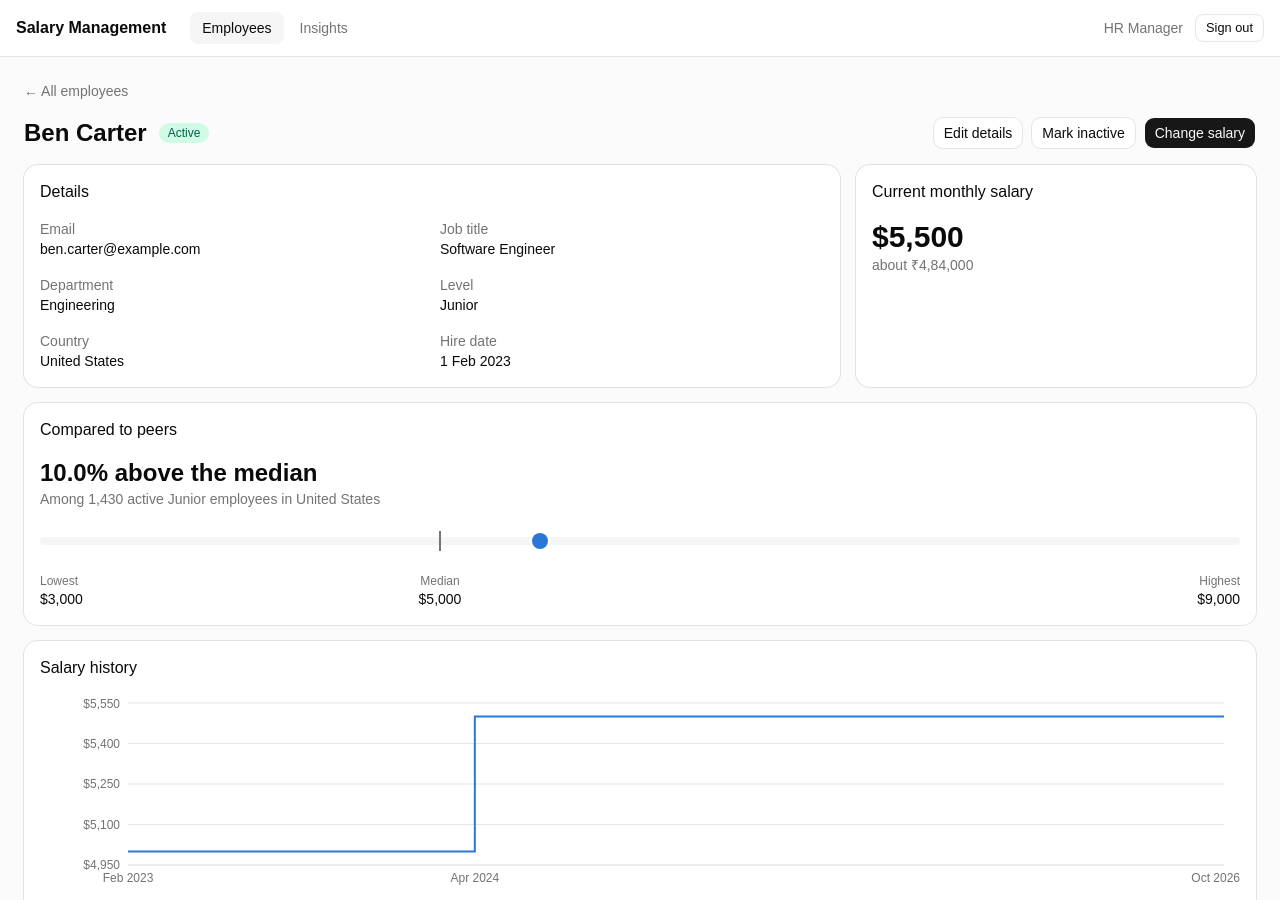
Test: changing a salary › rejects an amount of "abc" before saving
Click the button "Change salary": (1200, 133) [1144,117,1256,149]
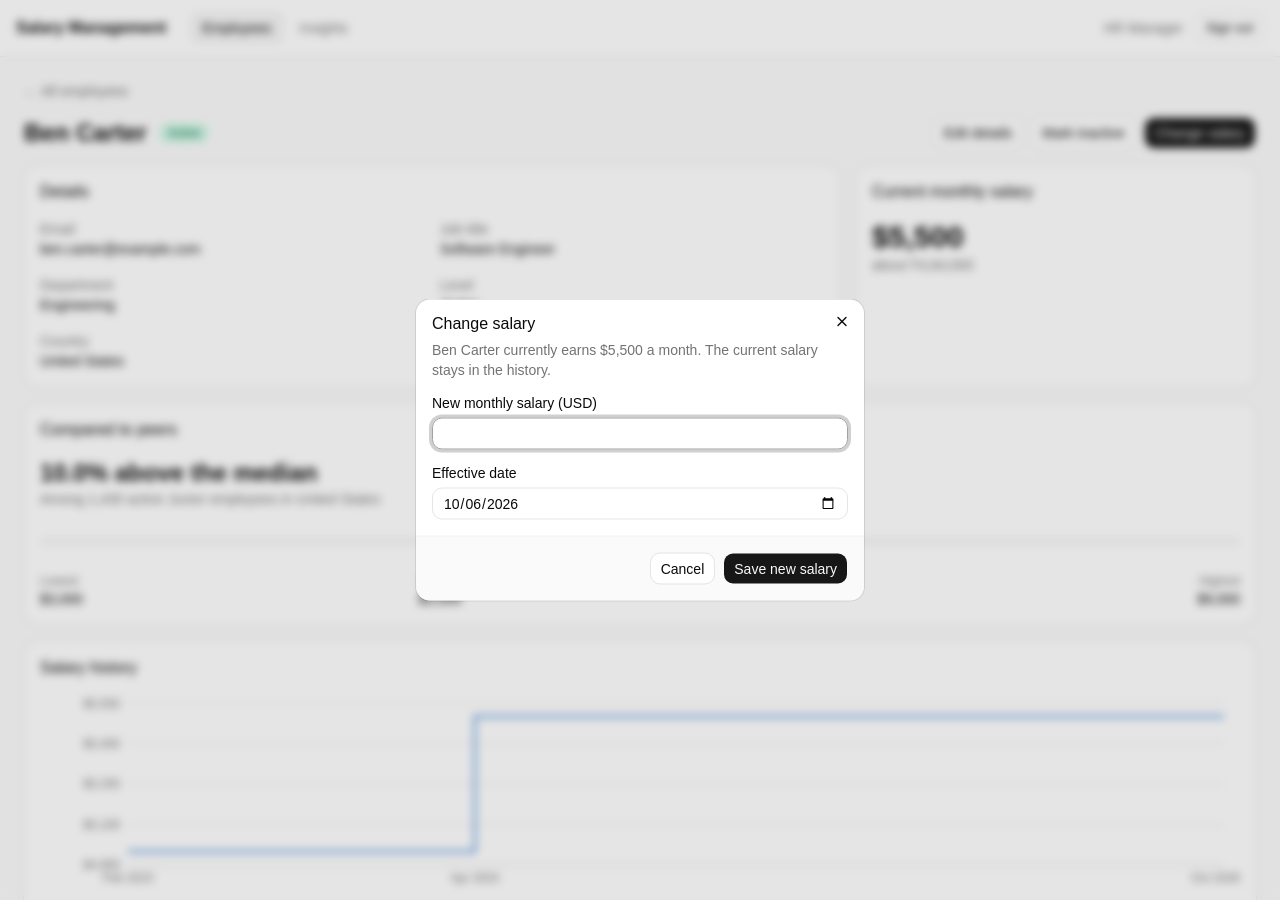
In the field labelled "New monthly salary (USD)": (640, 434) [432,418,848,450], type "abc"
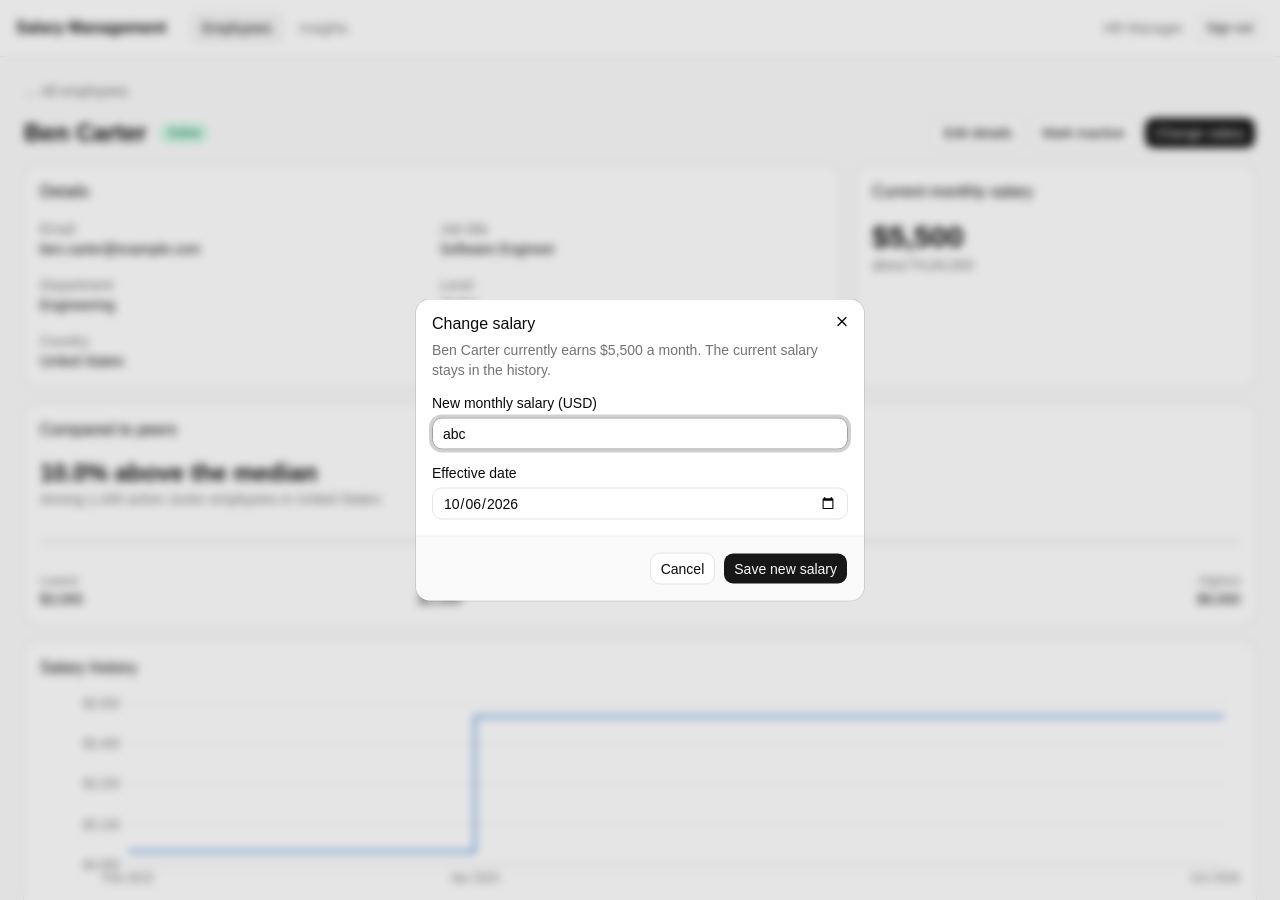
Click the button "Save new salary": (786, 568) [723,552,848,584]
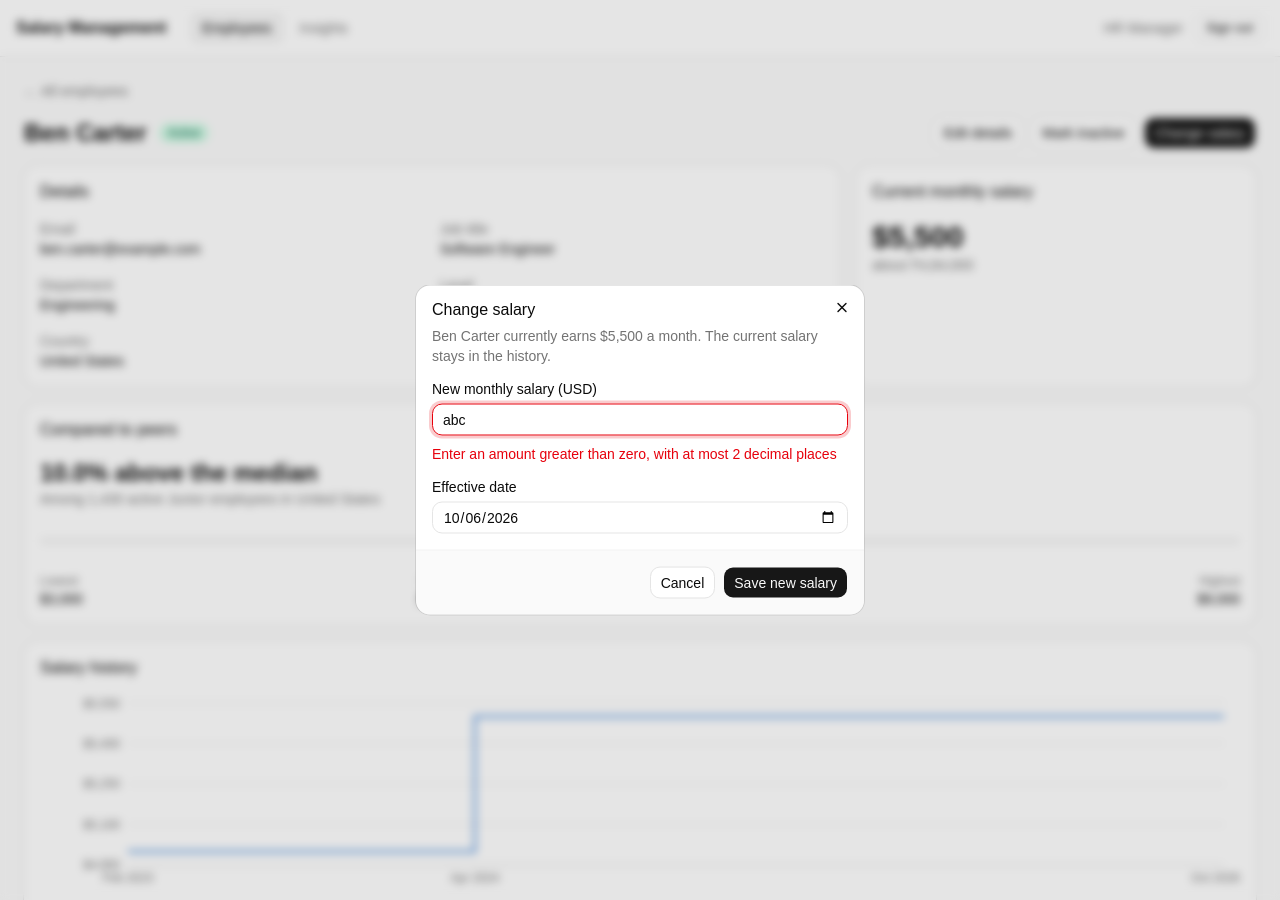
Now the text "Enter an amount greater than zero, with at most 2 decimal places" is shown, box [432,444,848,464]
